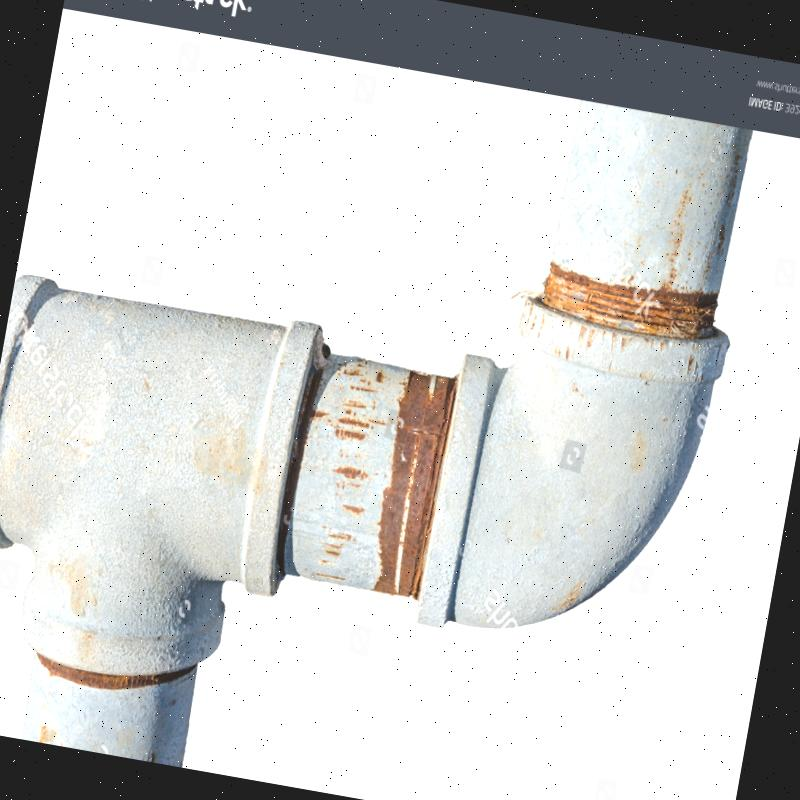corrosion: (370, 355, 464, 600)
